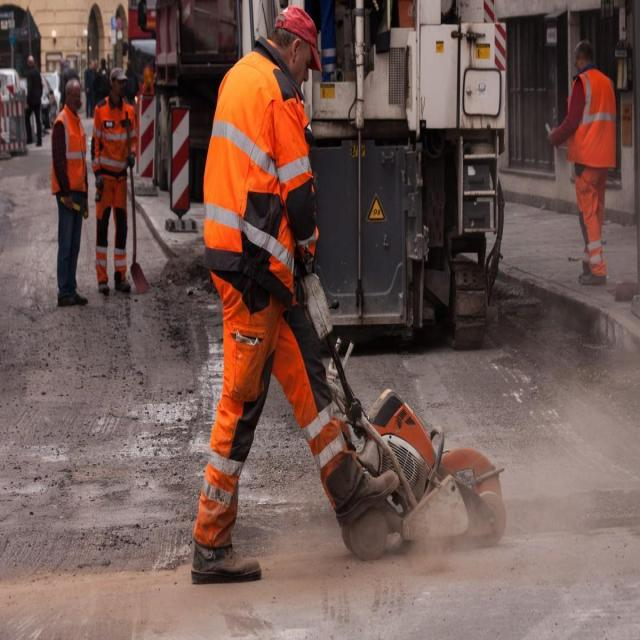jacket: (201, 48, 311, 282), (564, 72, 620, 172), (90, 98, 138, 174), (48, 112, 88, 198)
